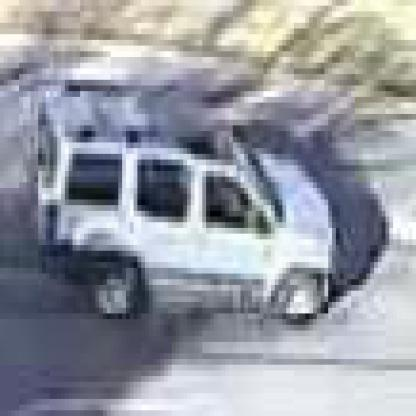car: (36, 98, 330, 320)
